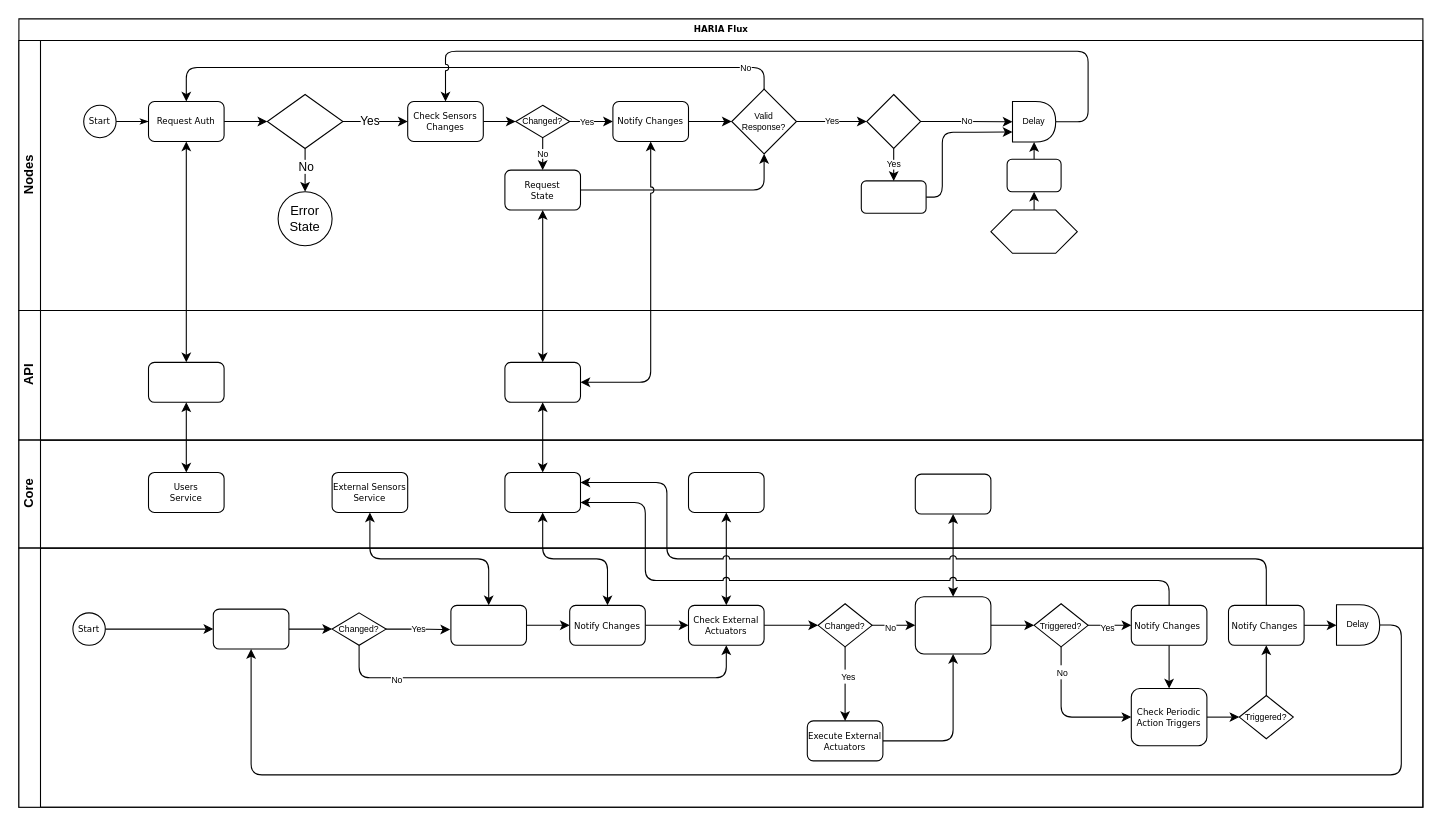
Image size: 1442x826. Some labels were removed from this diagram. The box of each missing label's shape, as (x1, y1, x2, y2) in pixels:
Authenticated?: (266, 93, 343, 148)
Cancel Delay: (1006, 158, 1061, 192)
Check Periodic Scenario Triggers: (914, 596, 991, 654)
Engine: (504, 361, 580, 402)
Engine Service: (504, 471, 580, 512)
Execute External Sensors: (212, 608, 289, 649)
External Actuators Service: (687, 471, 764, 512)
Persist Changes: (450, 604, 526, 645)
Scenario Triggers Service: (914, 473, 991, 514)
Sensor change interrrupt: (990, 209, 1077, 253)
State Change?: (866, 93, 921, 148)
Update Actuators: (860, 180, 926, 213)
Users: (147, 361, 224, 402)
Worker: (18, 547, 1423, 807)
